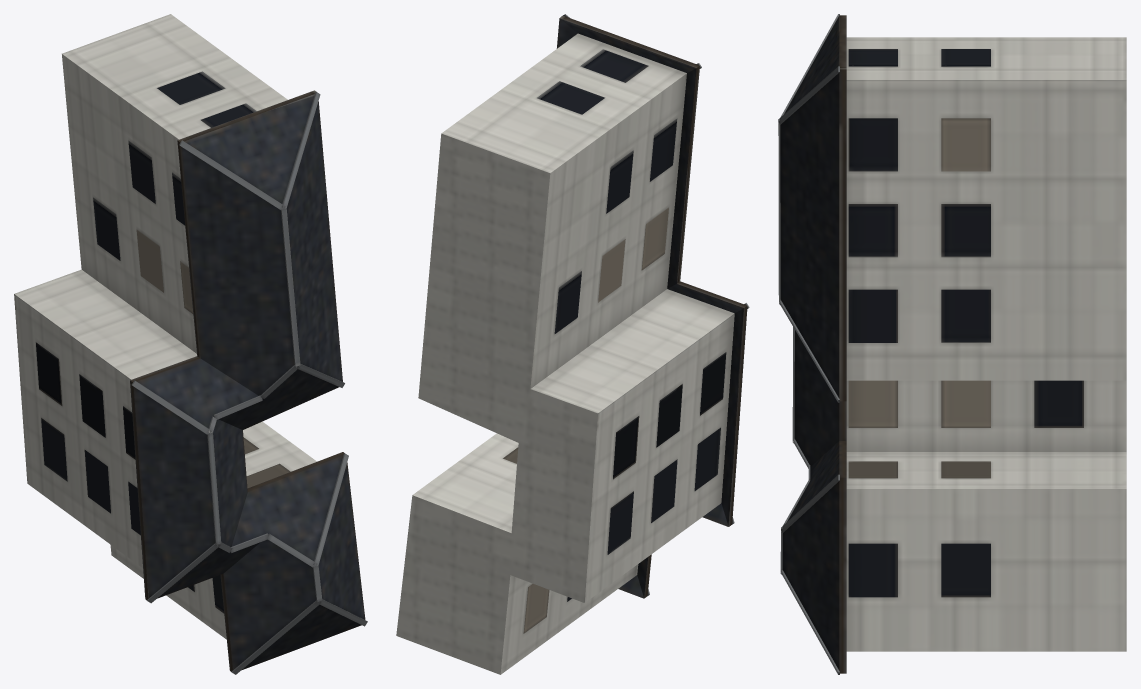
File: house_b0292.obj
3 views of the same model, side by side, from view 1: azimuth 30°, elevation 25°; view 2: azimuth 150°, elevation 25°; view 3: azimuth 270°, elevation 25° (orthographic). The views are drawn at different scales.
Visible parts, largest first — view 1: house_b0292; view 2: house_b0292; view 3: house_b0292.
Boxes of the visible parts, left/top/right/bottom form: house_b0292: left=14, top=14, right=367, bottom=674; house_b0292: left=396, top=14, right=749, bottom=674; house_b0292: left=778, top=14, right=1126, bottom=674.
Bounding box in the file's own units: 9.38 × 21.42 × 11.23.
Materials: 1 (1 with a texture image).
